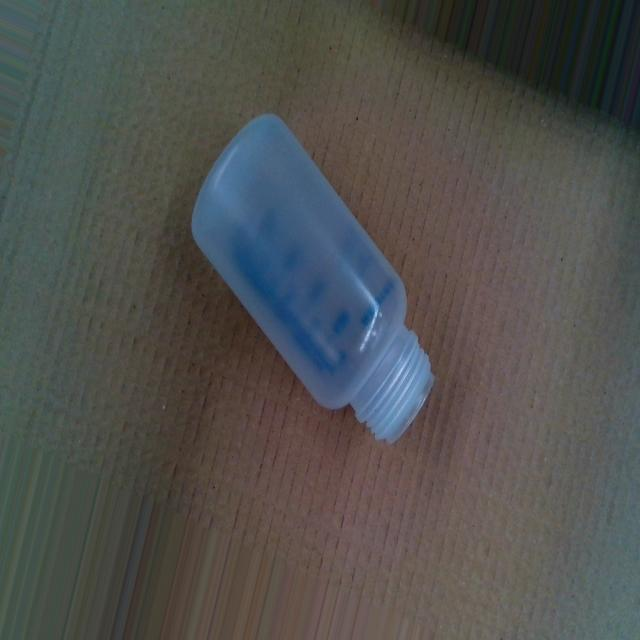bottle: (188, 106, 434, 452)
